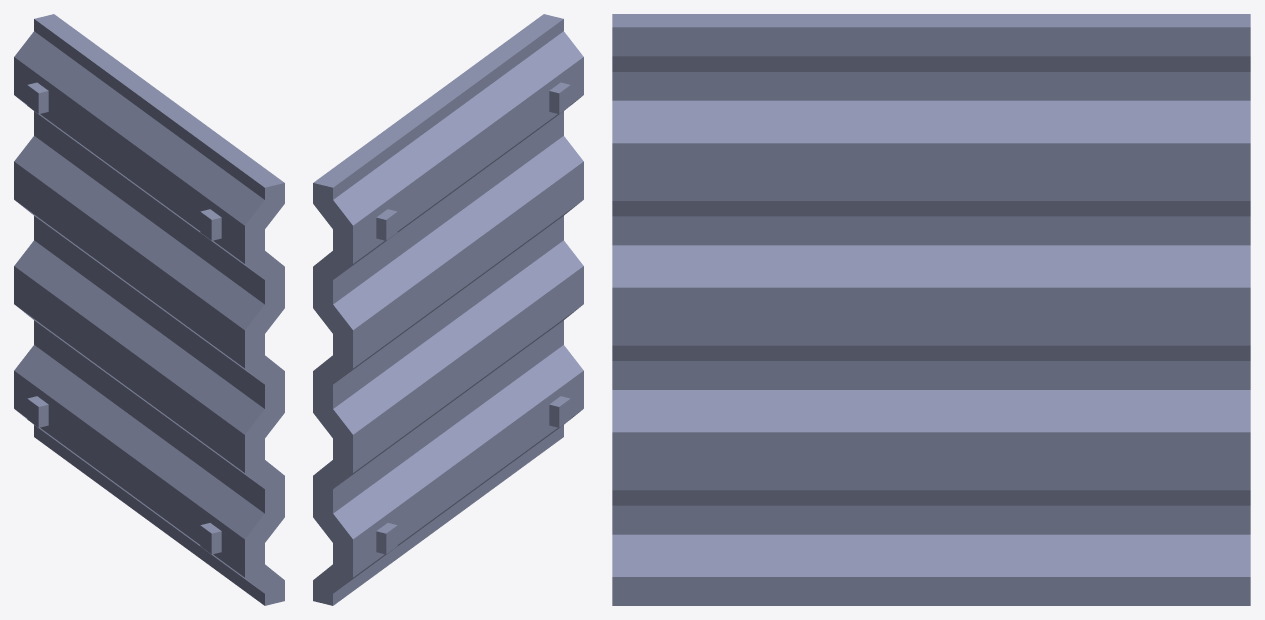
Rendered from plating-detailed.obj.
3 views of the same model, side by side, from view 1: azimuth 30°, elevation 25°; view 2: azimuth 150°, elevation 25°; view 3: azimuth 270°, elevation 25° (orthographic). The views are drawn at different scales.
Bounding box in the file's own units: 0.125 × 1 × 1.
